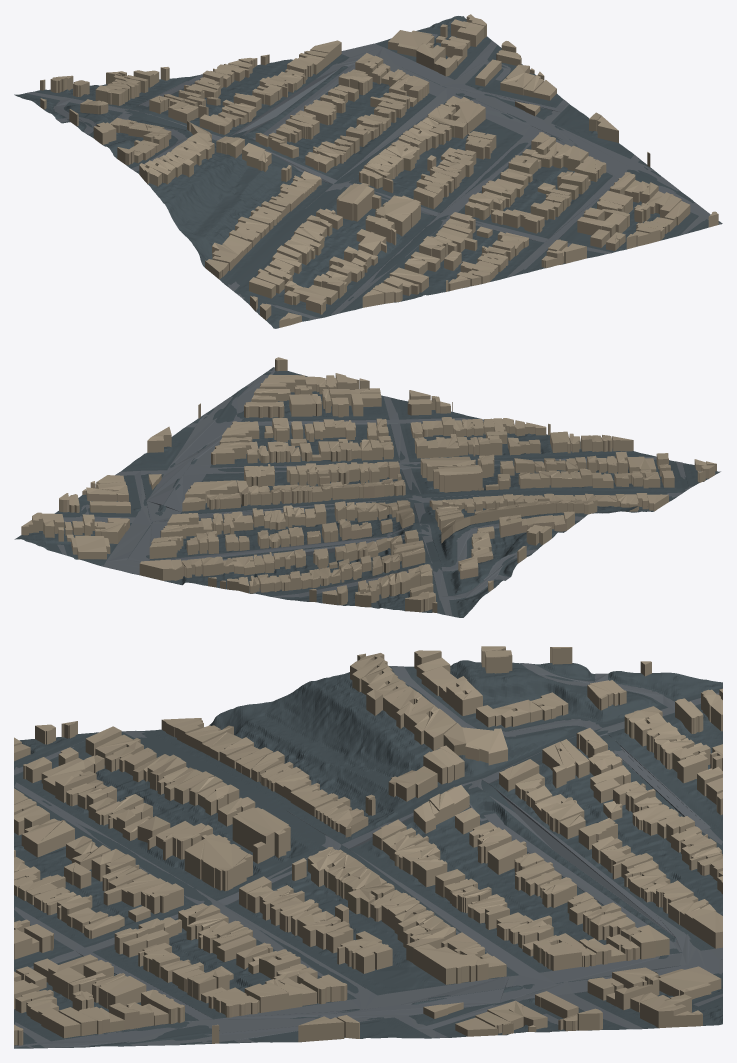
The model's file is epsg26910-1441-10876.lod0.glb.
The picture shows the model from 3 angles, top to bottom: view 1: azimuth 30°, elevation 25°; view 2: azimuth 150°, elevation 25°; view 3: azimuth 270°, elevation 25°; orthographic projection. The views are drawn at different scales.
Visible parts, largest first — view 1: epsg26910-1441-10876-lod0; view 2: epsg26910-1441-10876-lod0; view 3: epsg26910-1441-10876-lod0.
Boxes of the visible parts, x1,y1,x2,y2 form: epsg26910-1441-10876-lod0: (14,14,722,328); epsg26910-1441-10876-lod0: (14,357,720,617); epsg26910-1441-10876-lod0: (14,646,722,1048).
Size of the model in its own units: 384 by 63.2 by 384.
